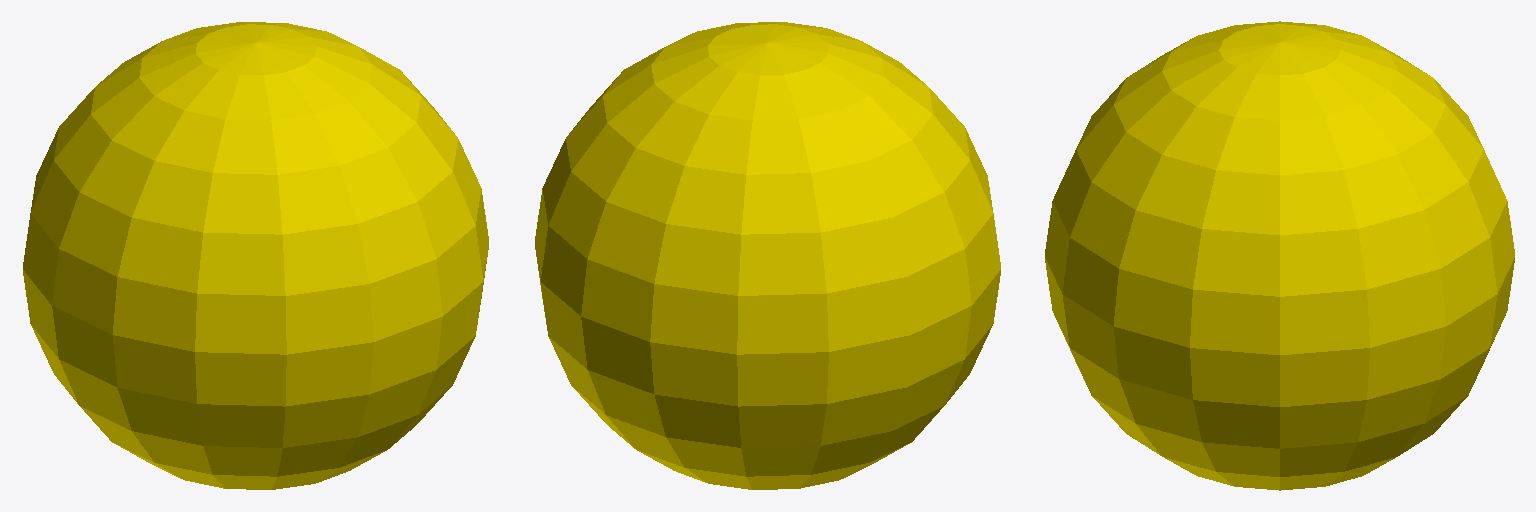
3 views of the same model, side by side, from view 1: azimuth 30°, elevation 25°; view 2: azimuth 150°, elevation 25°; view 3: azimuth 270°, elevation 25° (orthographic).
Parts seen in each view (by area): view 1: Sphere; view 2: Sphere; view 3: Sphere.
Part boxes in pixels (bbox=[...]): Sphere: bbox=[23, 22, 488, 489]; Sphere: bbox=[535, 22, 1000, 489]; Sphere: bbox=[1045, 21, 1514, 490].
Size of the model in its own units: 2 by 2 by 2.
Materials: 1 (1 with a texture image).